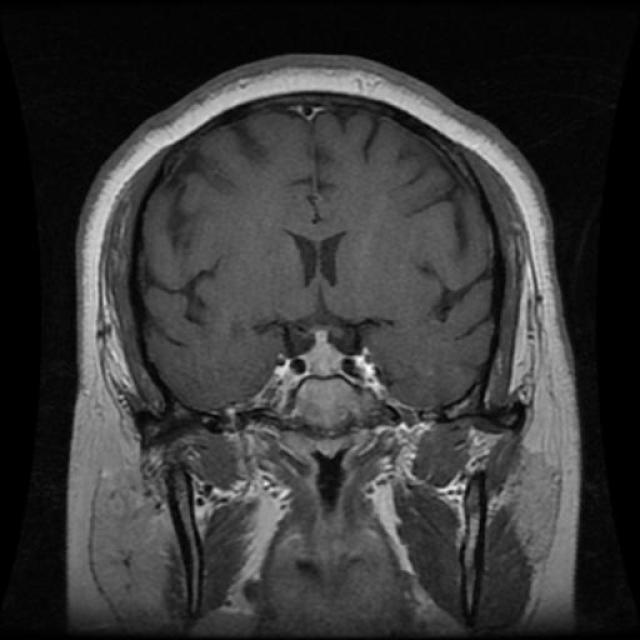pituitary: (280, 223, 360, 296)
